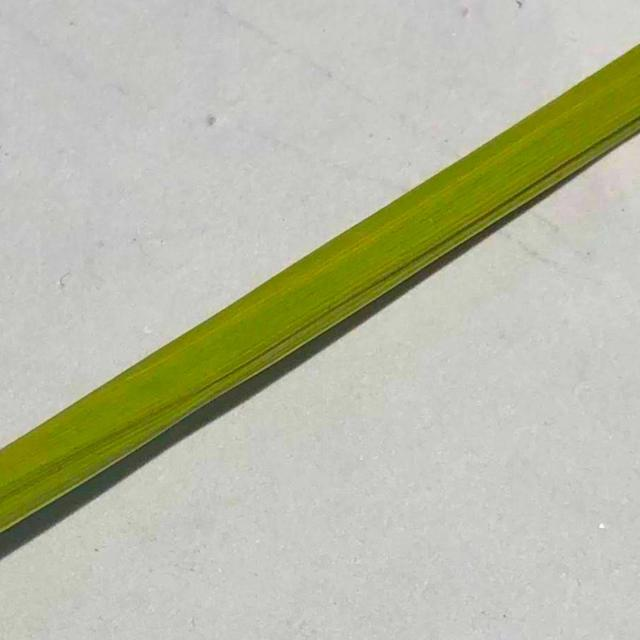healthy: (0, 42, 640, 543)
